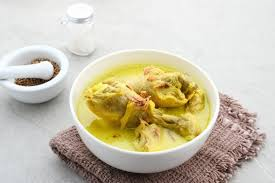Opor ayam: (73, 60, 214, 152)
